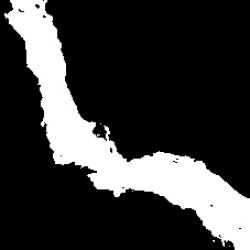crack: (7, 1, 248, 247)
